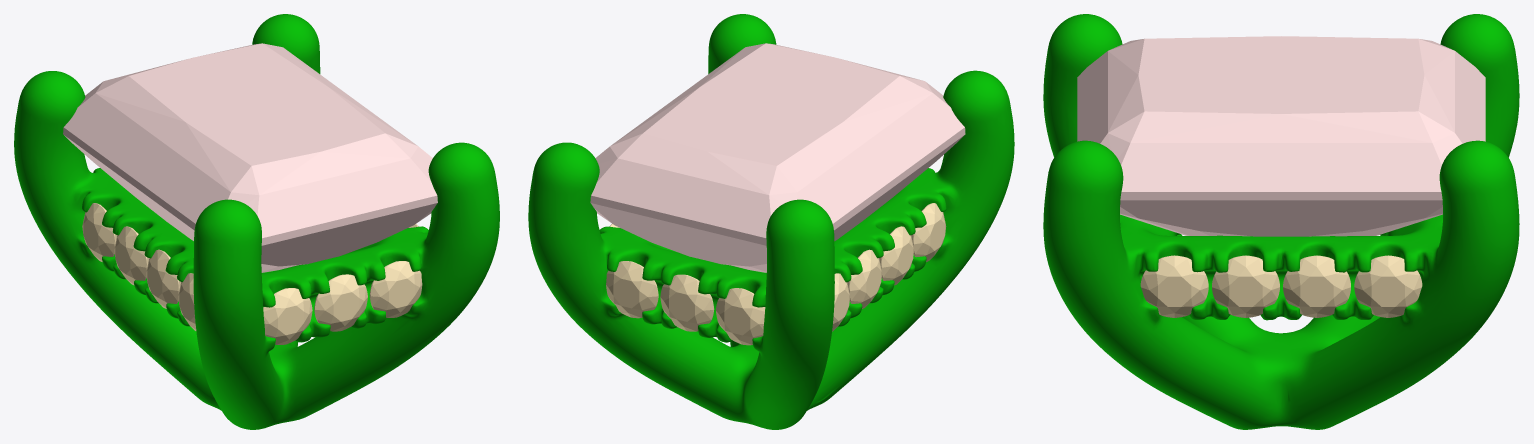
3 renders of one model, left to right at view 1: azimuth 30°, elevation 25°; view 2: azimuth 150°, elevation 25°; view 3: azimuth 270°, elevation 25°, orthographic. The views are drawn at different scales.
Visible parts, largest first — view 1: Metal01, Diamond_Radiant, Diamond_Round.005, Diamond_Round.004, Diamond_Round.006, Diamond_Round.013, Diamond_Round.010, Diamond_Round.011, Diamond_Round.012; view 2: Metal01, Diamond_Radiant, Diamond_Round.008, Diamond_Round.007, Diamond_Round.009, Diamond_Round.012, Diamond_Round.010, Diamond_Round.013, Diamond_Round.011; view 3: Metal01, Diamond_Radiant, Diamond_Round.002, Diamond_Round.001, Diamond_Round.003, Diamond_Round.
Part boxes in pixels (x1,y1,x2,y2): Metal01: (14,14,499,429); Diamond_Radiant: (63,43,437,272); Diamond_Round.005: (314,274,367,331); Diamond_Round.004: (369,261,422,317); Diamond_Round.006: (263,288,312,344); Diamond_Round.013: (146,249,180,308); Diamond_Round.010: (114,226,149,285); Diamond_Round.011: (82,203,117,261); Diamond_Round.012: (178,273,196,330); Metal01: (528,14,1014,429); Diamond_Radiant: (590,43,965,272); Diamond_Round.008: (660,274,714,331); Diamond_Round.007: (606,261,658,318); Diamond_Round.009: (716,288,765,345); Diamond_Round.012: (911,203,946,261); Diamond_Round.010: (847,249,882,308); Diamond_Round.013: (879,226,914,285); Diamond_Round.011: (832,273,850,331); Metal01: (1043,14,1519,429); Diamond_Radiant: (1077,36,1485,236); Diamond_Round.002: (1283,255,1350,317); Diamond_Round.001: (1212,255,1279,317); Diamond_Round.003: (1354,255,1422,317); Diamond_Round: (1140,255,1208,317).
Bounding box in the file's own units: 5.62 × 5.5 × 6.99.
